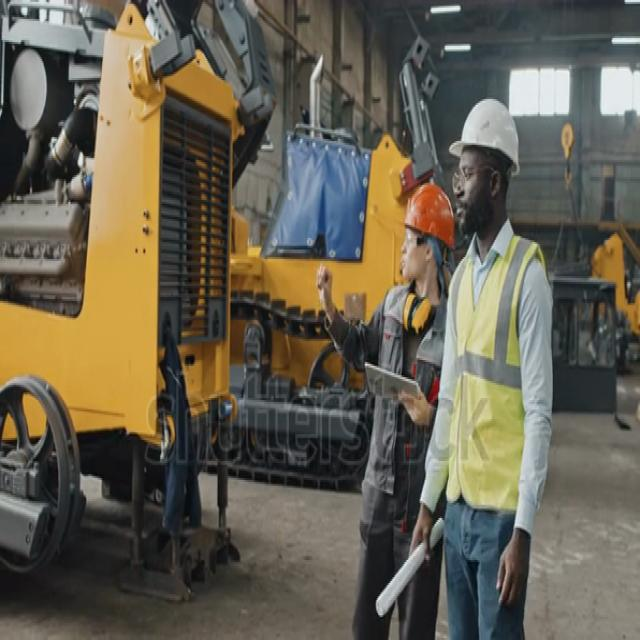goggles: (452, 156, 492, 191), (401, 230, 434, 253)
